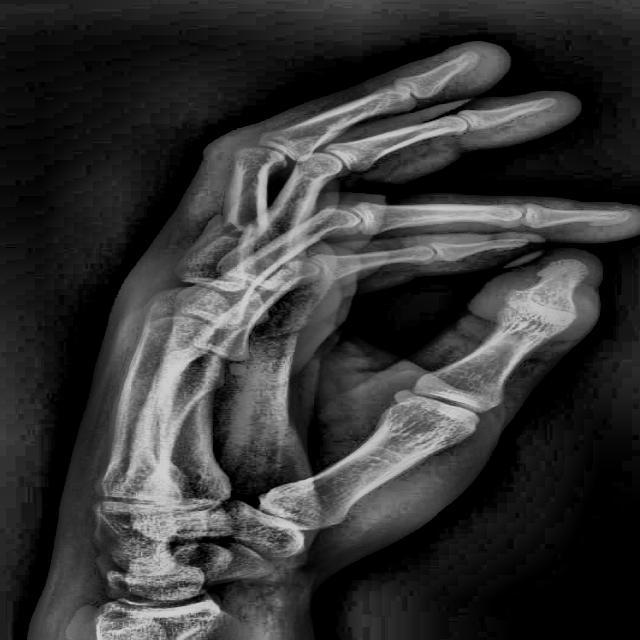fracture: (501, 289, 578, 330)
